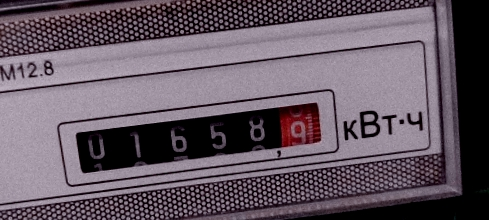0: (83, 127, 108, 162)
1: (127, 127, 144, 159)
5: (207, 117, 229, 151)
6: (167, 121, 190, 154)
8: (245, 110, 268, 144)
9: (286, 117, 307, 145)
screen: (48, 78, 346, 193)
